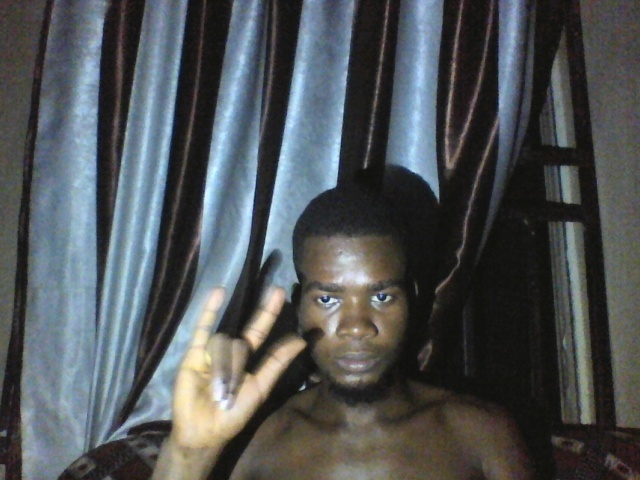i love you: (167, 282, 306, 464)
